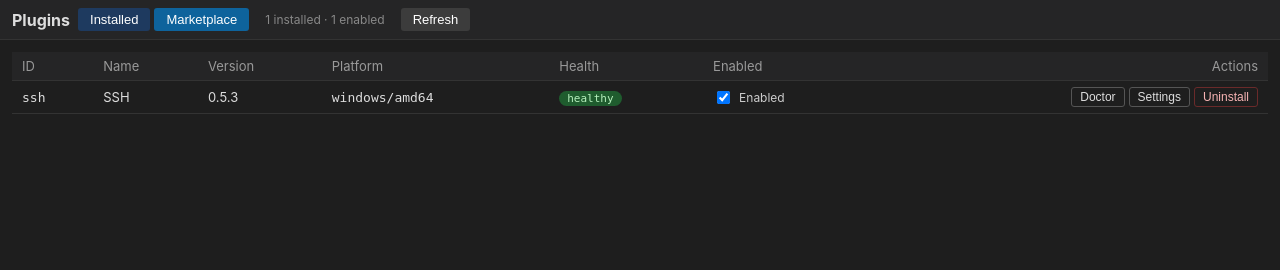
Test case: PluginsPage · Marketplace tab › renders 'Installed' pill when the chosen version equals the installed one
Click the button "Marketplace". click: point(202, 20)
box: [154,8,249,31]
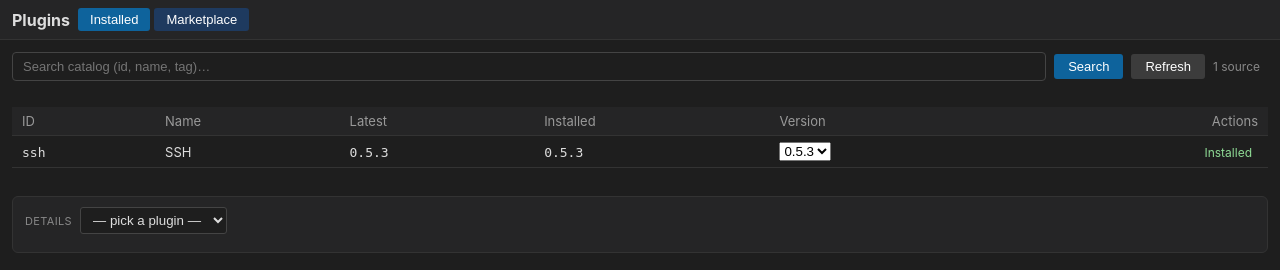
Check: the text "Installed" is shown, box [1204,144,1252,160]
